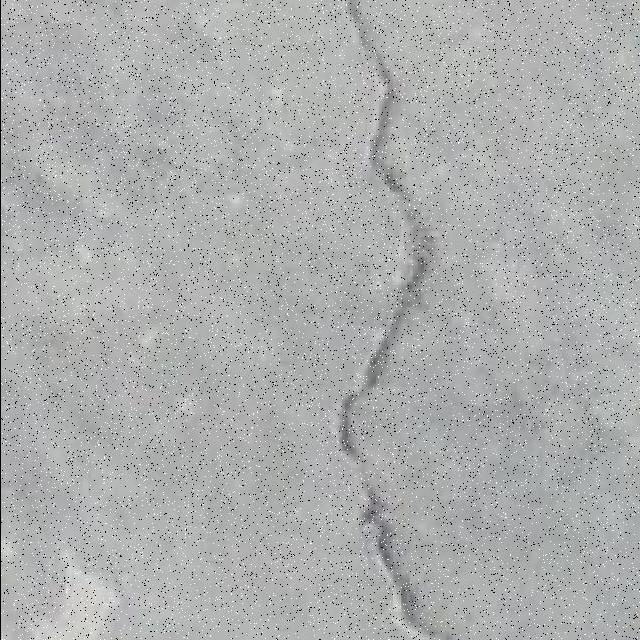Crack: (336, 1, 437, 635)
